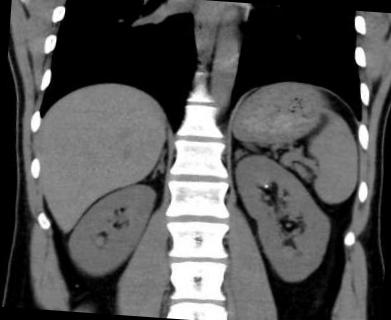Tas_Var: (262, 183, 269, 190)
